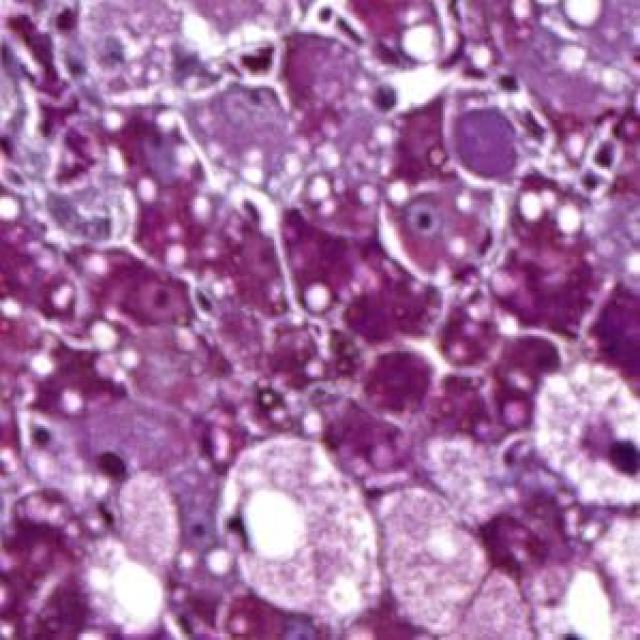ballooning: (212, 432, 392, 623), (526, 359, 636, 516)
